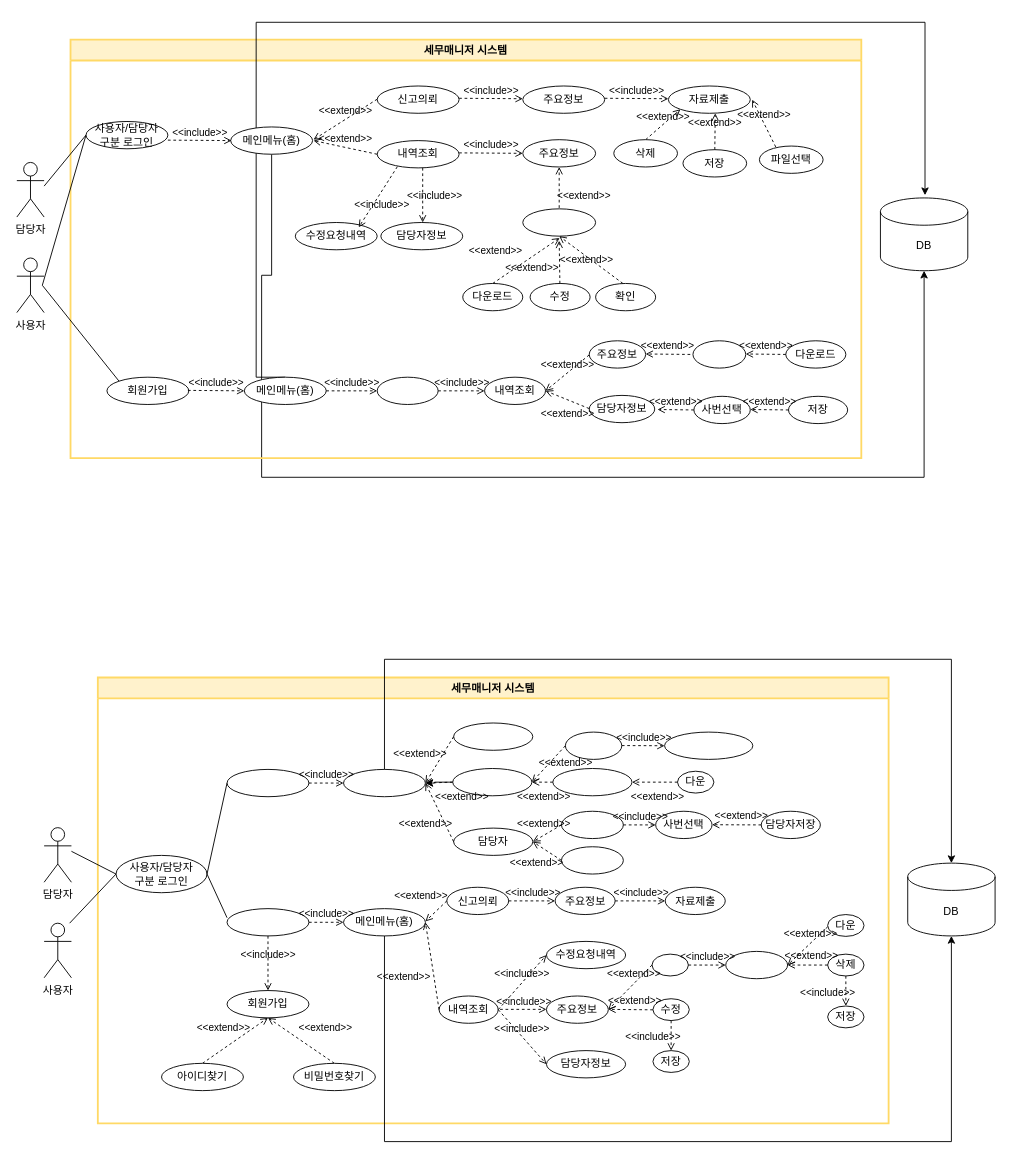
Image size: 1011x1165. Some labels were removed from this diagram. The shapes that lost their labels are listed below. From the top down, each one's box as (x1, y1, x2, y2) in pixels, then its label:
(522, 208, 596, 236): 자료목록
(692, 340, 746, 368): 문서조회
(376, 376, 438, 404): 의뢰내역
(453, 722, 533, 750): 리스트갱신
(564, 731, 622, 759): 수정요청
(664, 731, 753, 759): 요청수정및저장
(226, 768, 309, 797): 담당자 로그인
(343, 768, 425, 797): 의뢰내역목록
(452, 768, 532, 796): 상세조회(정보)
(552, 768, 632, 796): 상세조회(자료)
(561, 810, 623, 839): 배치필요
(561, 846, 623, 874): 담당자명
(226, 908, 309, 936): 사용자 로그인
(651, 953, 688, 976): 다음
(725, 950, 788, 979): 제출자료
